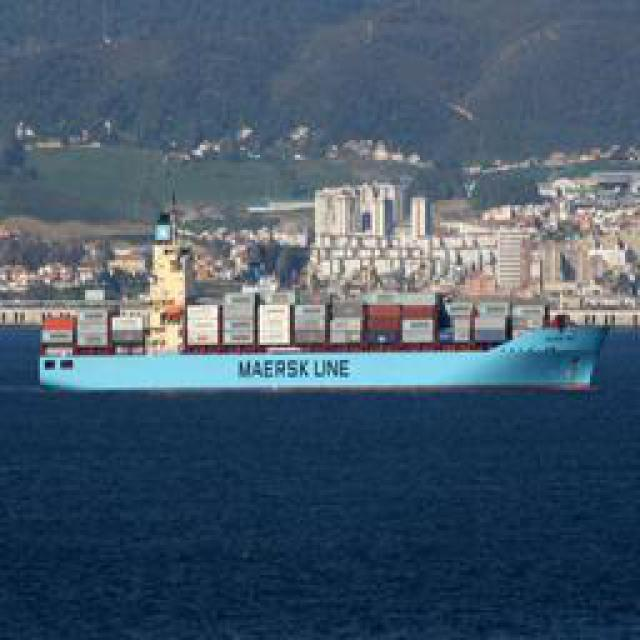Ship: (42, 286, 610, 394)
